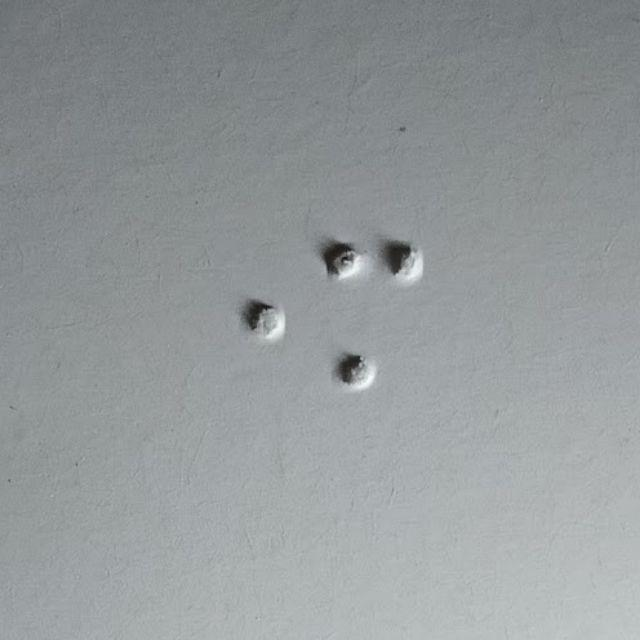dot_5: (175, 236, 287, 391)
mabuti: (321, 239, 433, 394)
